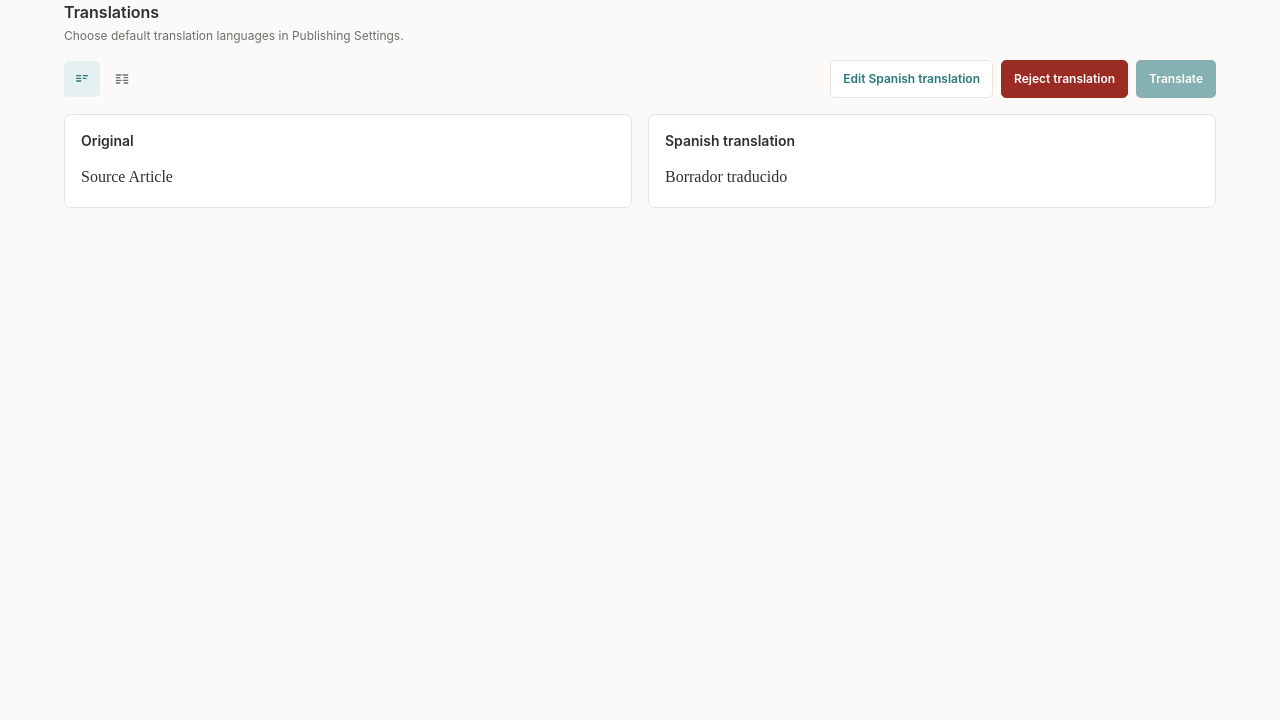
Test case: TranslationsView › requires confirmation before rejecting generated translation output
Click the button "Reject translation".
click(1064, 79)  # box 1001,60 -> 1128,98
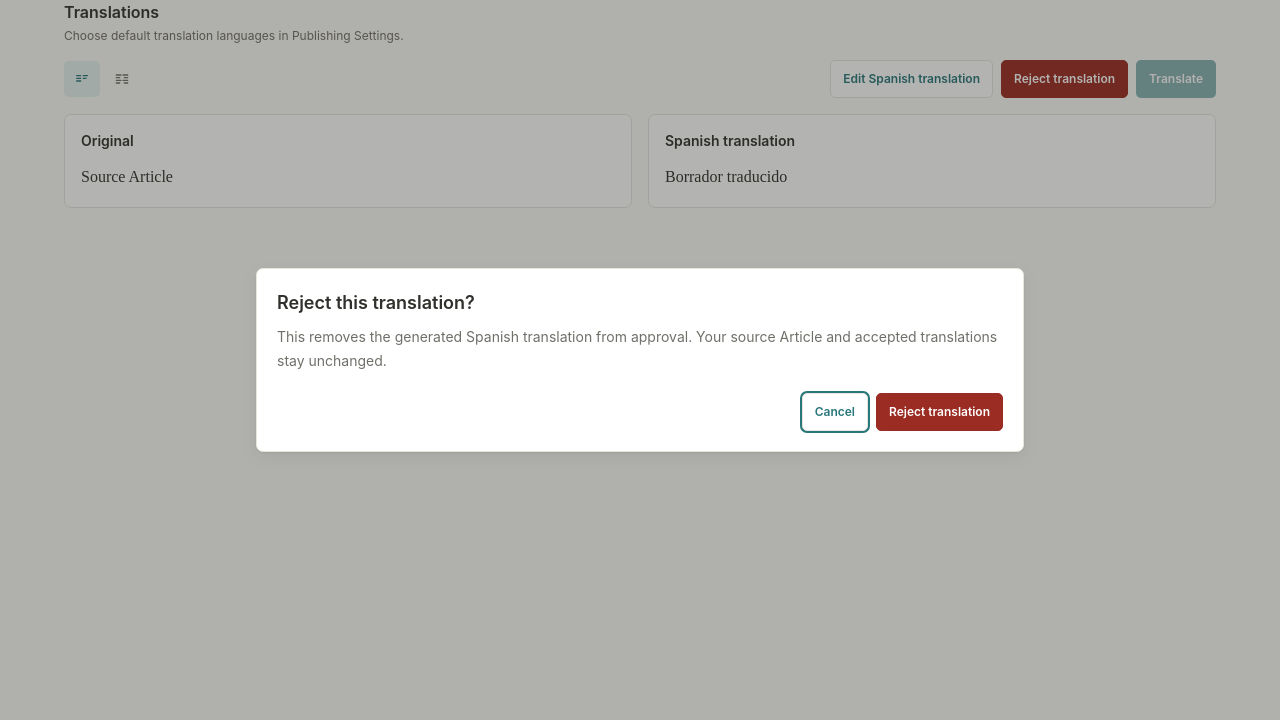
Click the 2nd button "Reject translation".
click(940, 412)  # box 876,393 -> 1003,431
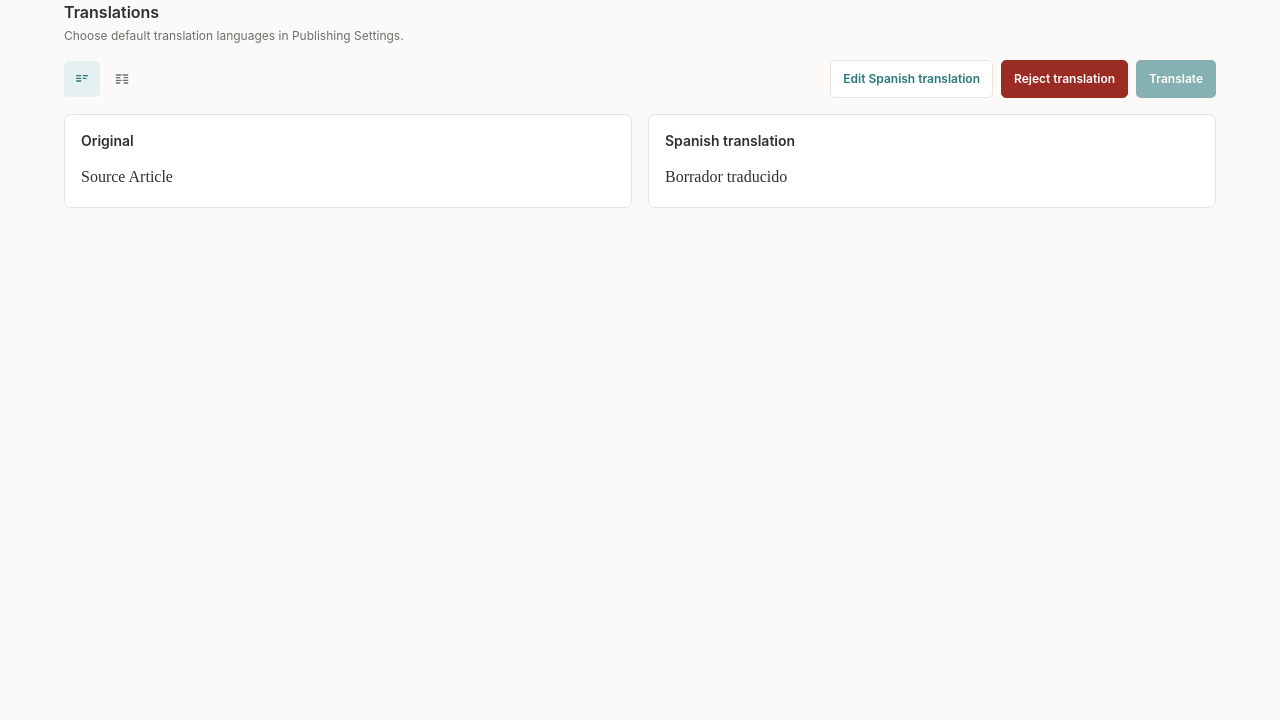
Expected: the dialog is gone
